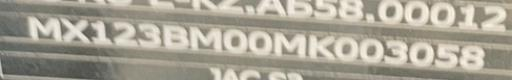letter: (187, 22, 223, 50), (26, 14, 62, 41), (272, 29, 306, 57), (162, 21, 190, 51), (220, 25, 248, 55), (306, 31, 334, 61), (458, 42, 486, 71), (60, 15, 90, 42), (407, 40, 435, 68), (432, 40, 460, 68), (111, 20, 139, 47), (247, 27, 273, 55), (333, 33, 359, 61), (358, 36, 384, 64), (89, 18, 113, 47), (136, 21, 162, 47), (384, 37, 408, 64)
